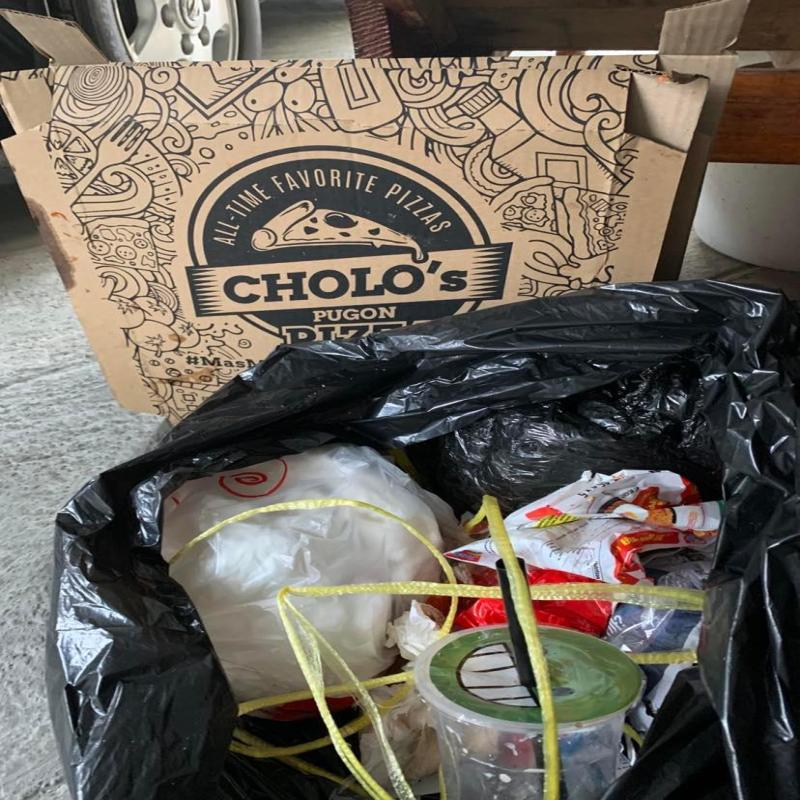cardboard: (0, 0, 752, 427)
food wrapper: (503, 470, 726, 586), (443, 538, 500, 570)
plastic bag: (161, 443, 474, 704), (290, 594, 430, 682)
